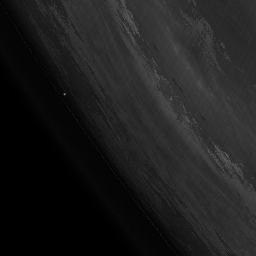Target: (62, 91, 66, 95)
